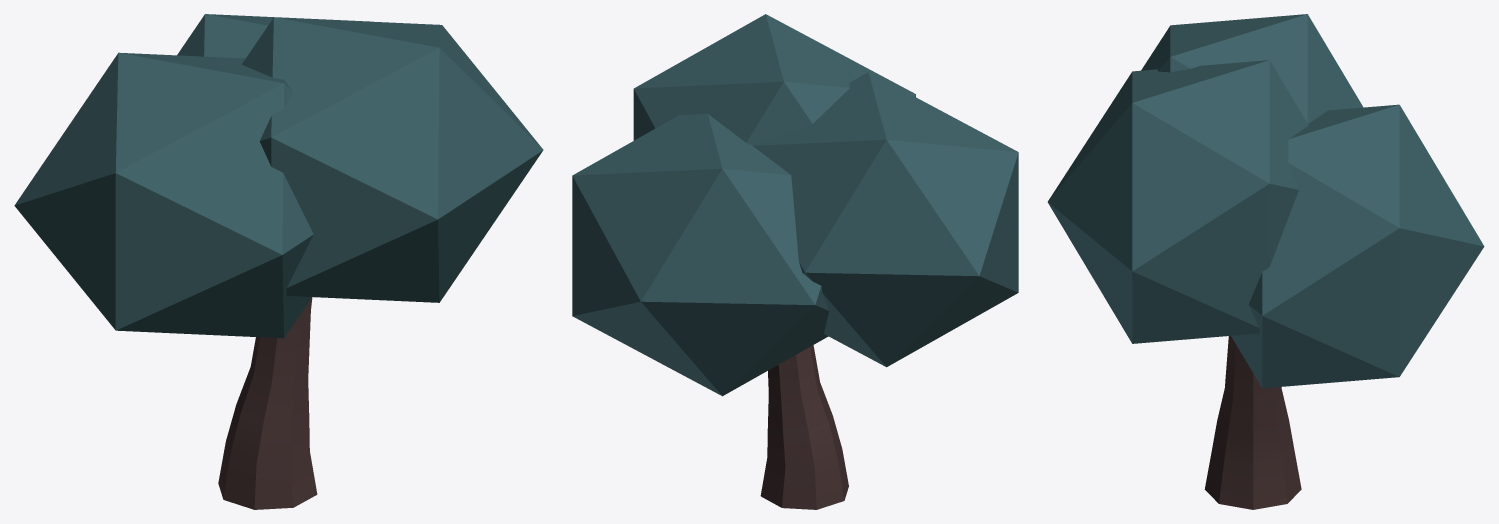
Rendered from Plant.fbx.
3 renders of one model, left to right at view 1: azimuth 30°, elevation 25°; view 2: azimuth 150°, elevation 25°; view 3: azimuth 270°, elevation 25°, orthographic. The views are drawn at different scales.
Parts seen in each view (by area): view 1: pPlatonic5; view 2: pPlatonic5; view 3: pPlatonic5.
Boxes of the visible parts, x1,y1,x2,y2 form: pPlatonic5: [14, 14, 543, 509]; pPlatonic5: [572, 14, 1018, 509]; pPlatonic5: [1047, 14, 1484, 509].
Bounding box in the file's own units: 4.4 × 4.45 × 4.04.
